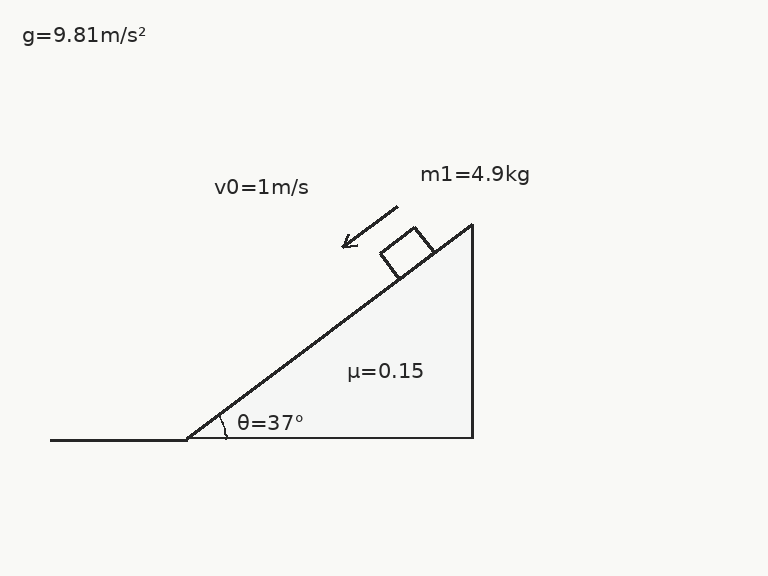block: (377, 224, 436, 281)
ramp: (184, 222, 474, 441)
